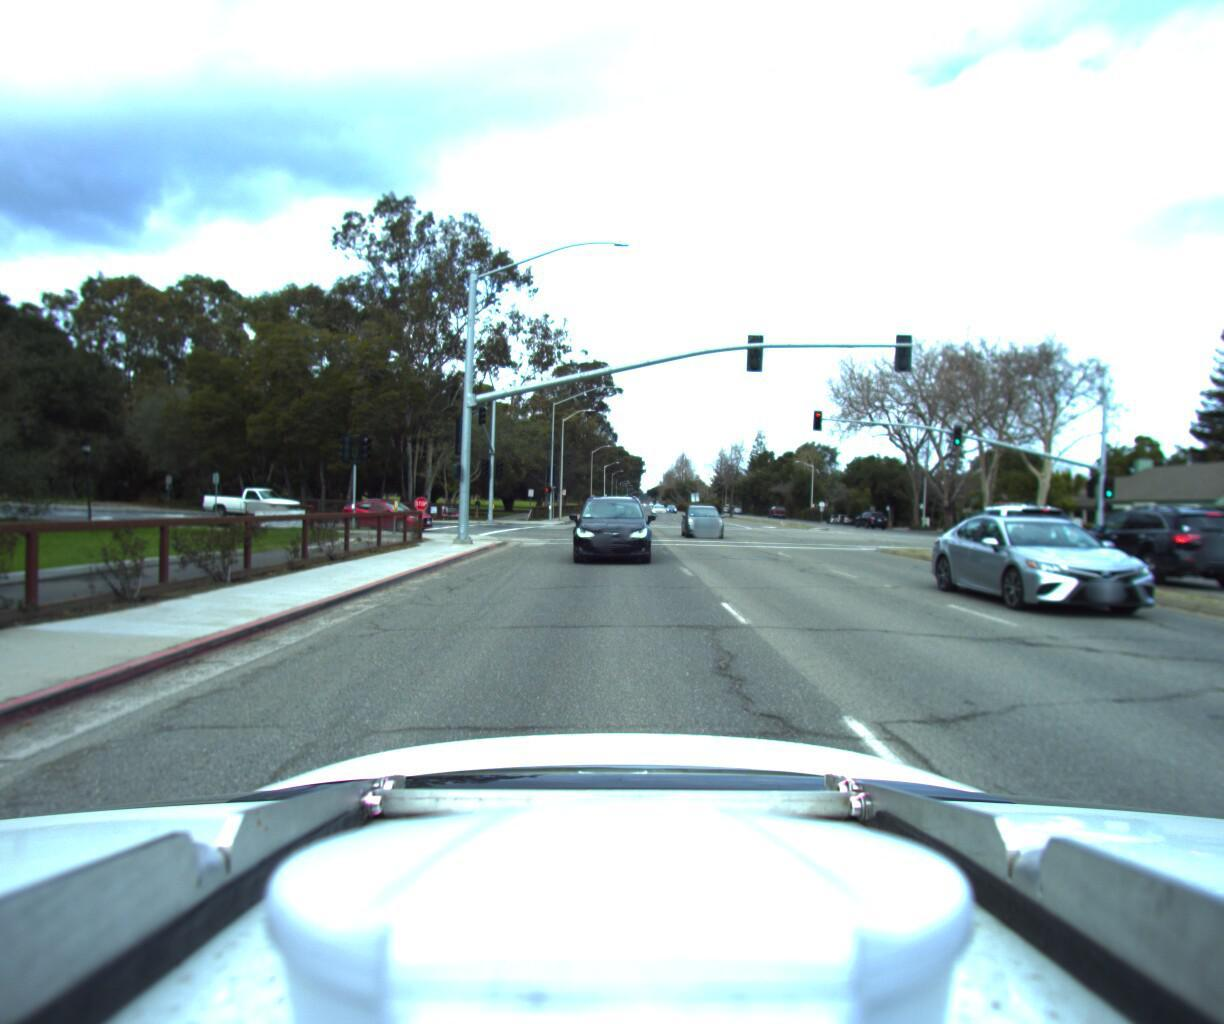car: (954, 511, 1224, 640), (1061, 498, 1224, 589), (948, 496, 1084, 561), (571, 488, 651, 563), (193, 482, 303, 520), (336, 497, 437, 528), (1201, 480, 1224, 586), (680, 499, 728, 537), (850, 509, 888, 529)
